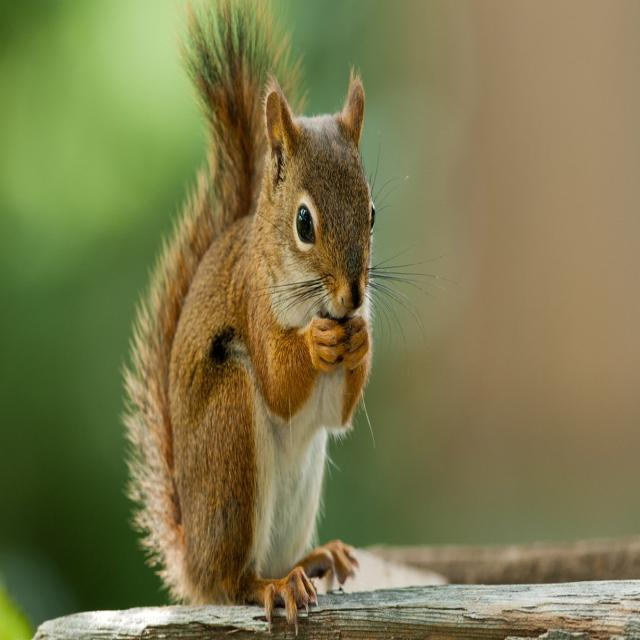Squirrel: (124, 16, 383, 633)
